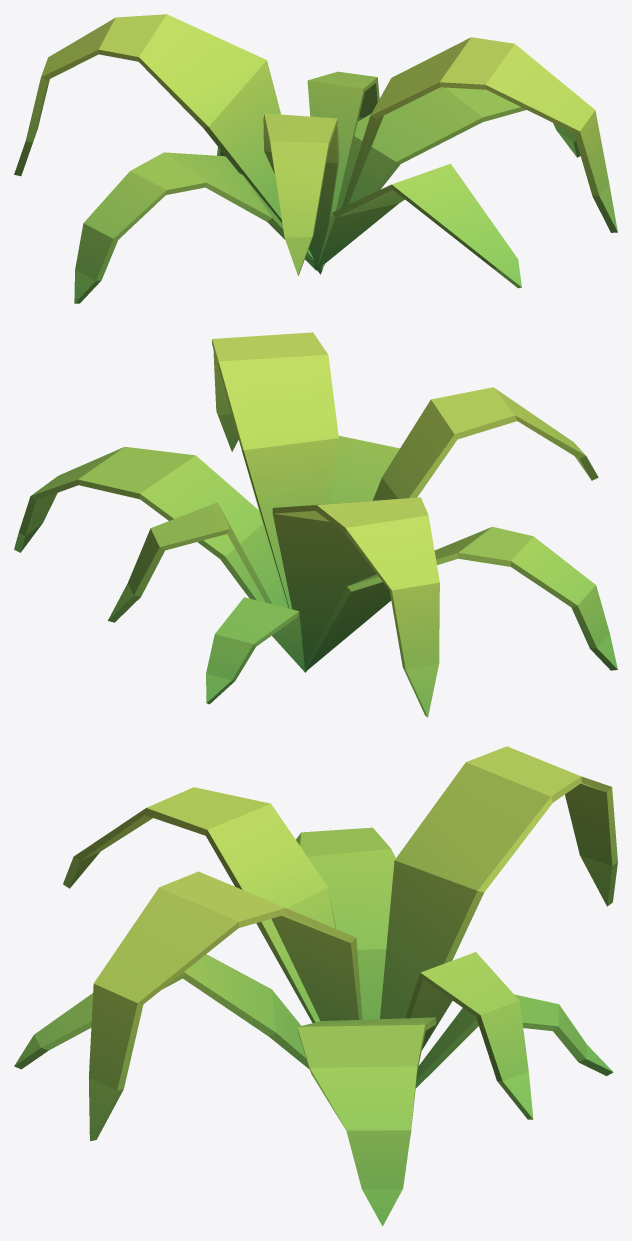
The model's file is Plant_1.fbx.
The picture shows the model from 3 angles, top to bottom: view 1: azimuth 30°, elevation 25°; view 2: azimuth 150°, elevation 25°; view 3: azimuth 270°, elevation 25°; orthographic projection. The views are drawn at different scales.
Parts seen in each view (by area): view 1: Plant_1; view 2: Plant_1; view 3: Plant_1.
Part boxes in pixels (x1=…): Plant_1: x1=14, y1=14, x2=617, y2=303; Plant_1: x1=14, y1=332, x2=617, y2=717; Plant_1: x1=14, y1=746, x2=617, y2=1226.
Size of the model in its own units: 1.2 by 0.5073 by 0.9456.
